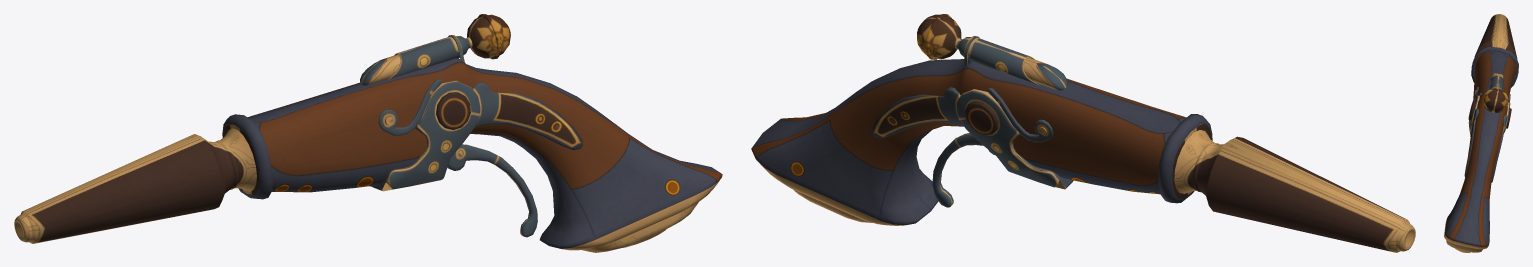
3 views of the same model, side by side, from view 1: azimuth 30°, elevation 25°; view 2: azimuth 150°, elevation 25°; view 3: azimuth 270°, elevation 25° (orthographic). The views are drawn at different scales.
Parts seen in each view (by area): view 1: mesh_normalized.001; view 2: mesh_normalized.001; view 3: mesh_normalized.001.
Boxes of the visible parts, <box> form: mesh_normalized.001: <box>14,14,722,252</box>; mesh_normalized.001: <box>751,14,1415,252</box>; mesh_normalized.001: <box>1444,14,1518,252</box>.
Size of the model in its own units: 0.8379 by 0.2837 by 0.1486.
Materials: 1 (1 with a texture image).
